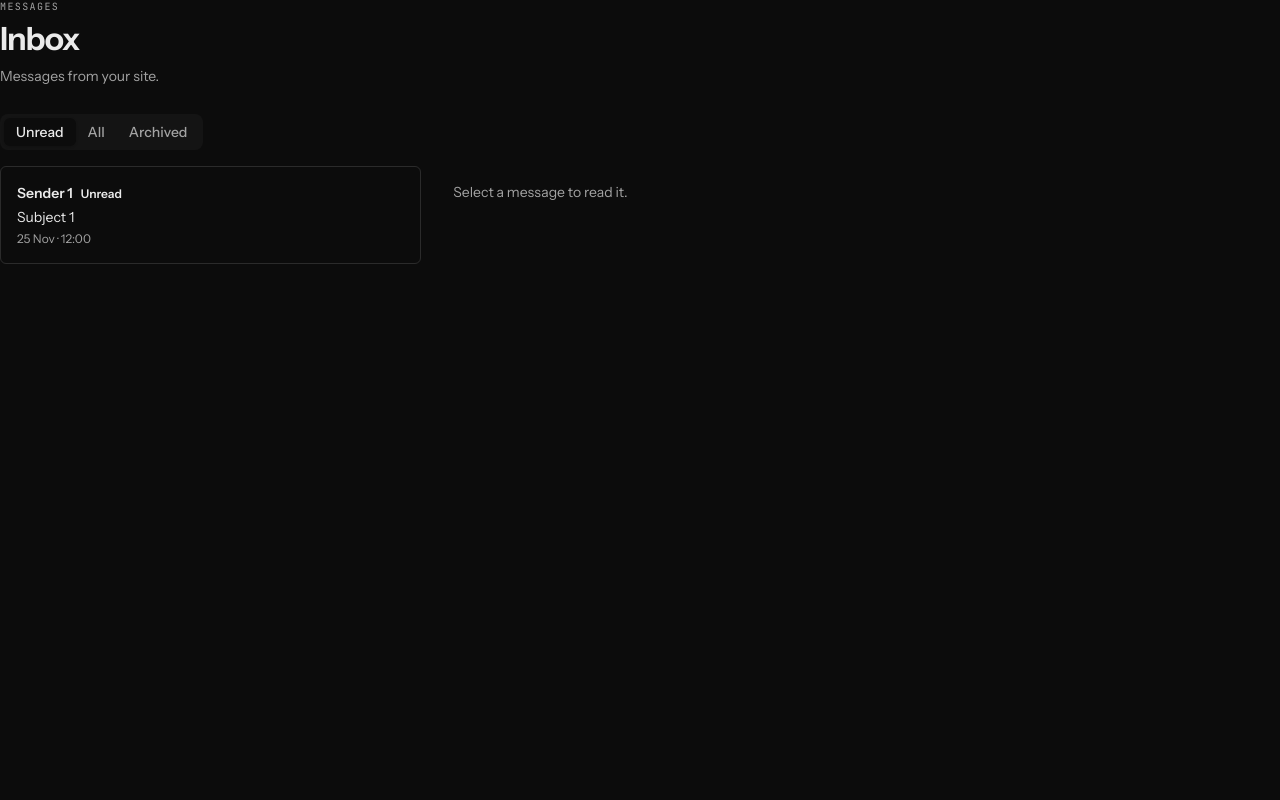
Scenario: messages inbox › returns mobile sheet focus after connected-row
Click the tab "All": (96, 132) [76,118,117,146]
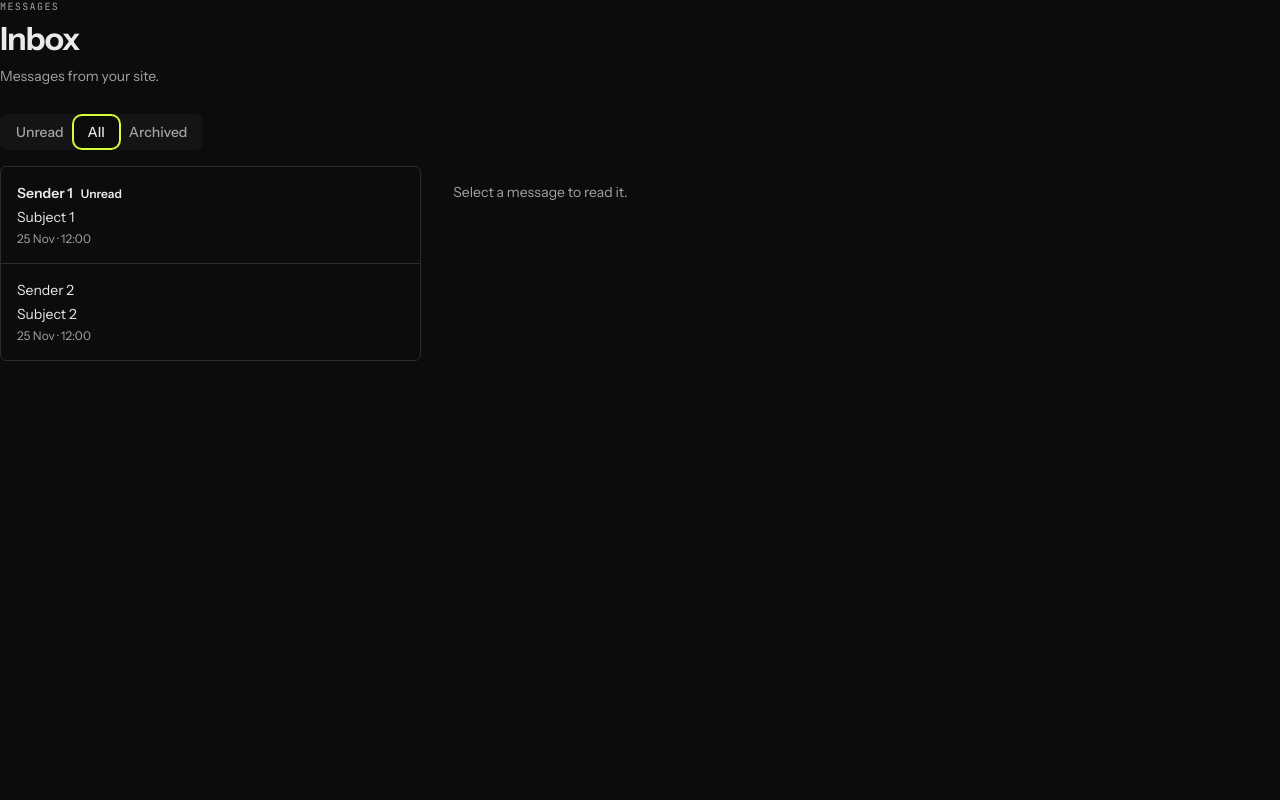
Click the button "Sender 1Unread Subject 1 25 Nov · 12:00": (45, 193) [1,167,420,263]
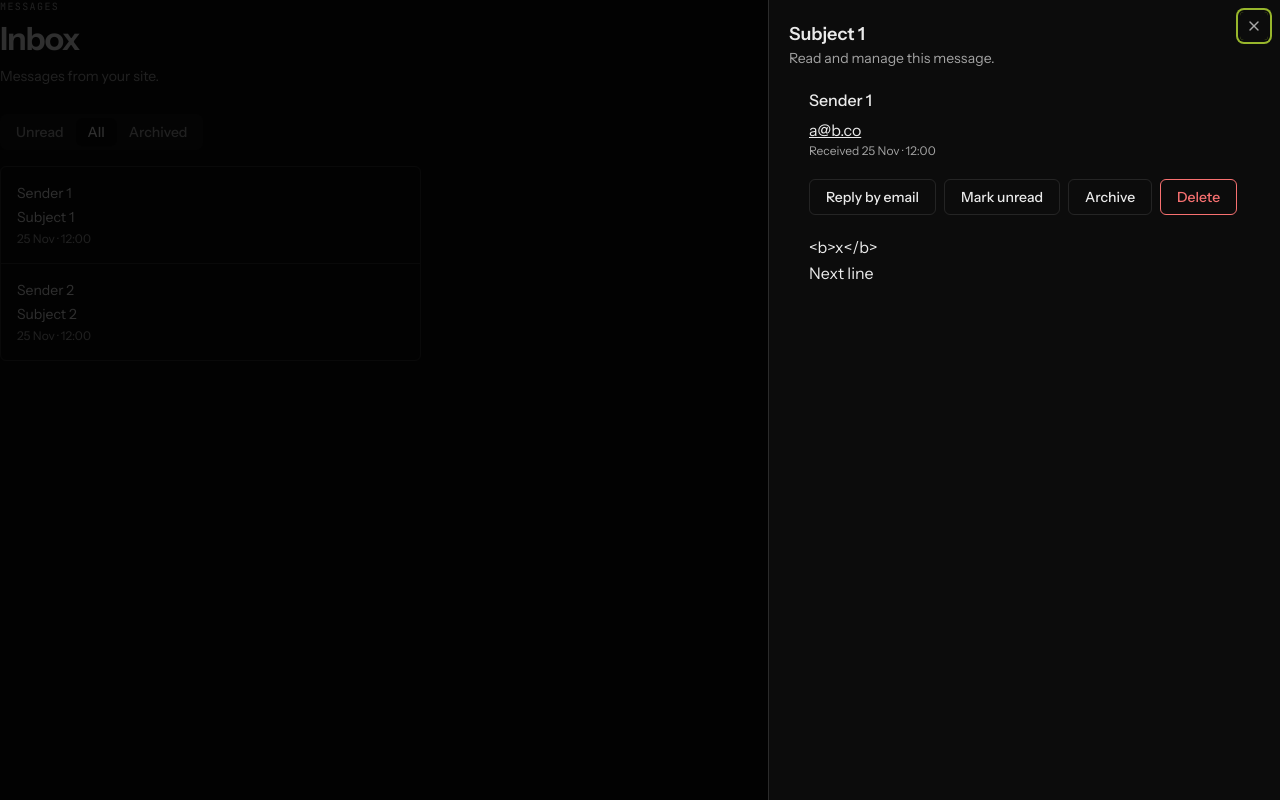
Click the button named "Close": (1254, 26) [1240,12,1268,40]
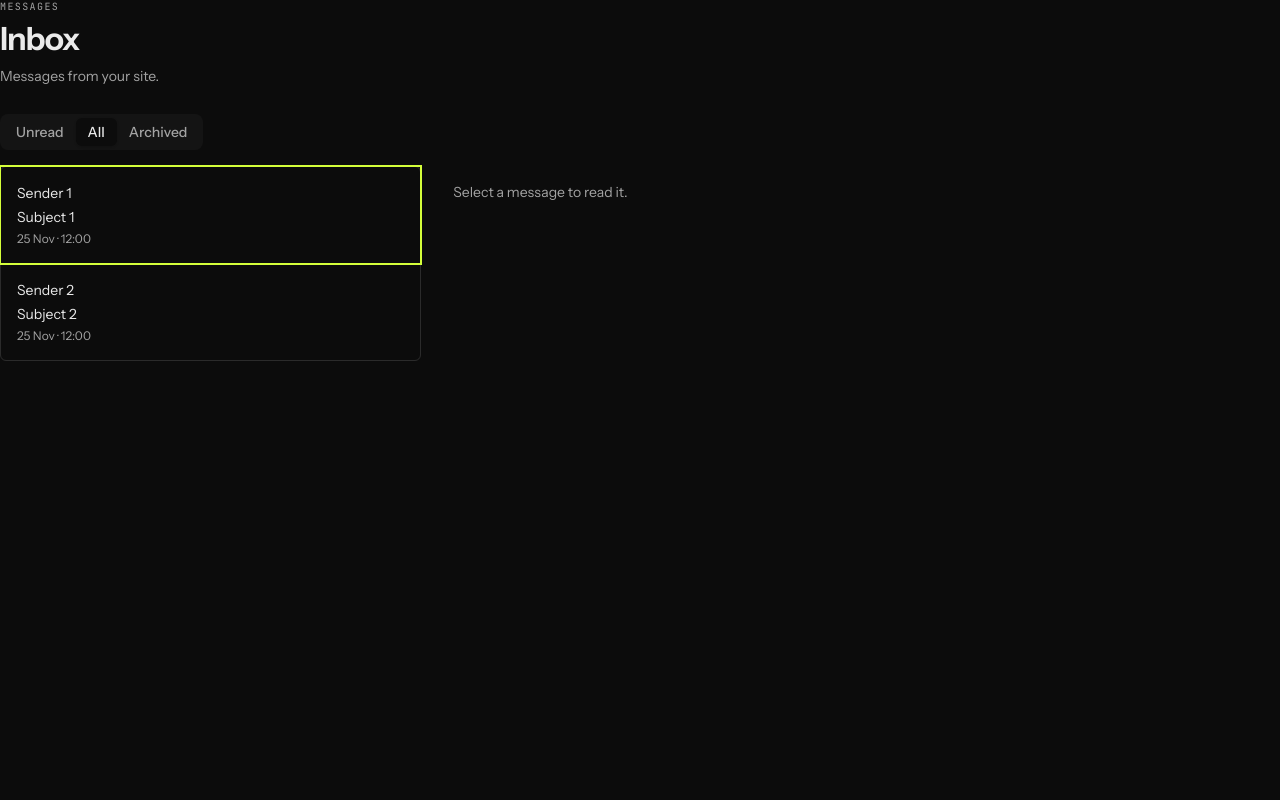
Expected: the dialog is gone
